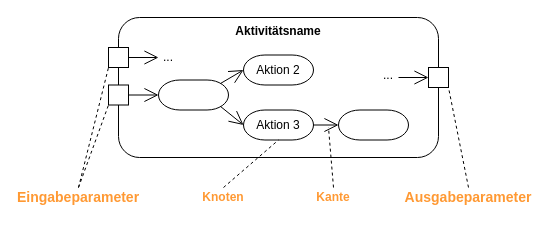
The diagram is 549 pixels wide and 225 high, and some of its shapes have lost their labels. The shapes that lost their labels are listed below. From the top down, each one's centre as x and y in pixels, then its label:
At [193,94]: "Aktion 1".
At [373,124]: "Aktion 4".
